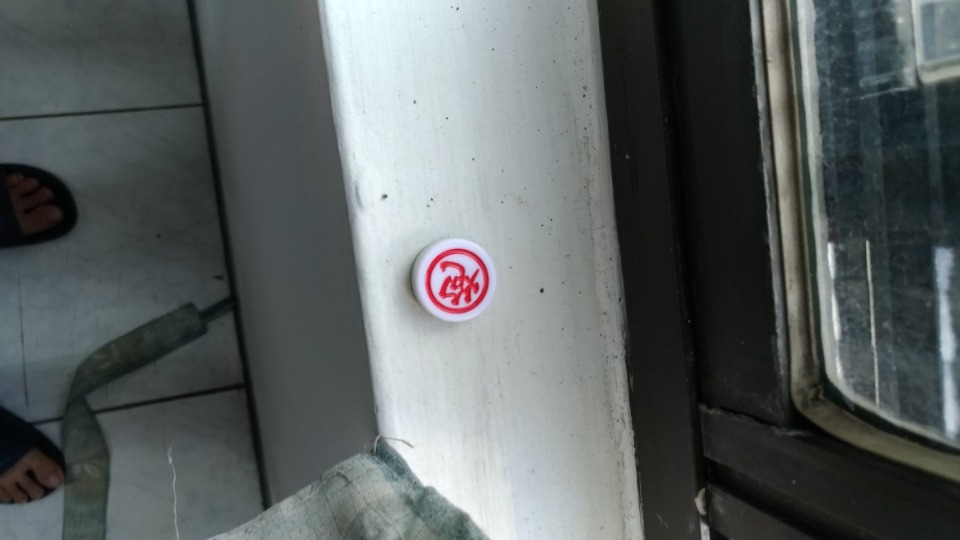r-cannon: (407, 231, 502, 337)
